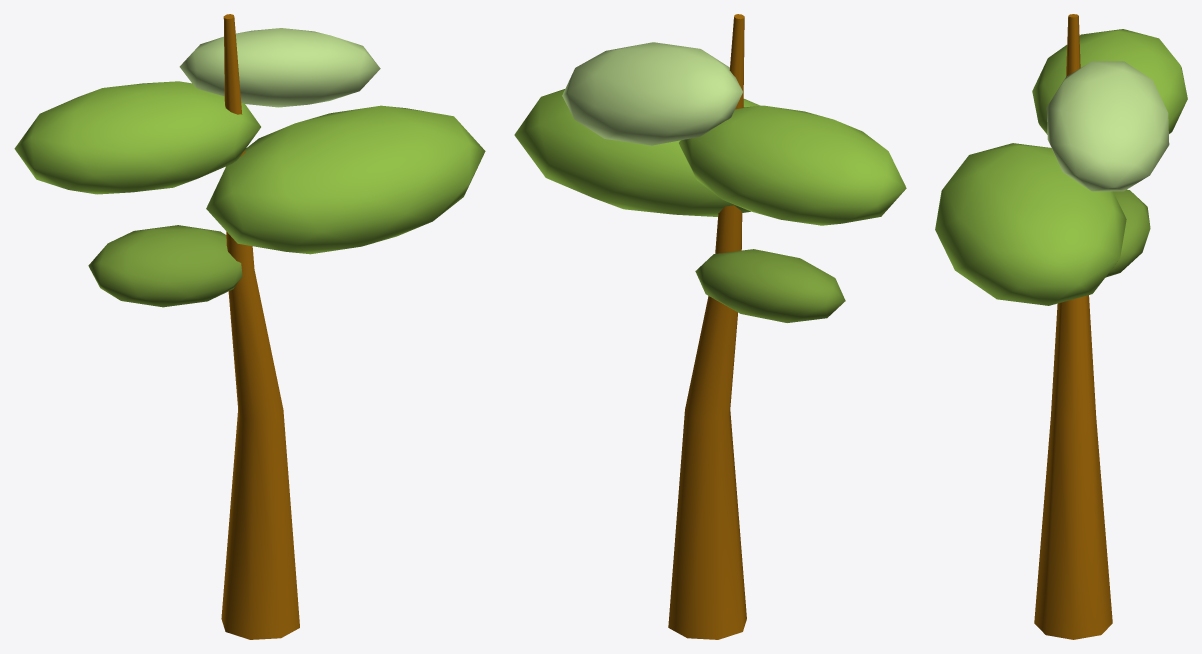
The model's file is tree3.fbx.
The picture shows the model from 3 angles, left to right: view 1: azimuth 30°, elevation 25°; view 2: azimuth 150°, elevation 25°; view 3: azimuth 270°, elevation 25°; orthographic projection. The views are drawn at different scales.
Visible parts, largest first — view 1: tree3; view 2: tree3; view 3: tree3.
Boxes of the visible parts, x1,y1,x2,y2 form: tree3: [14, 14, 485, 639]; tree3: [514, 14, 906, 639]; tree3: [935, 14, 1187, 639].
Bounding box in the file's own units: 364 × 522 × 202.
